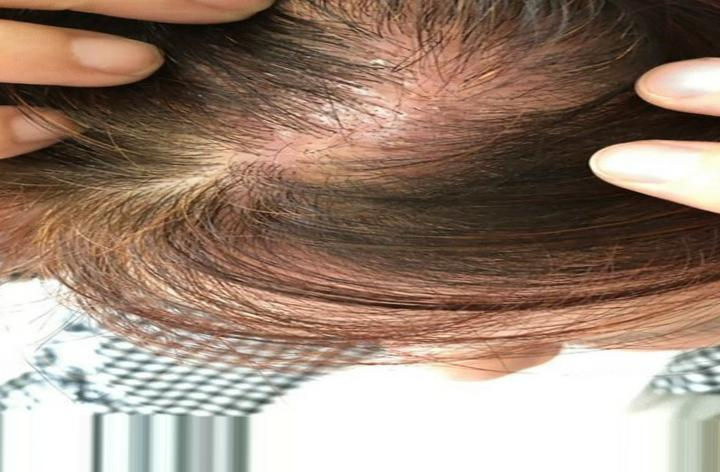Contact Dermatitis: (253, 10, 538, 235)
